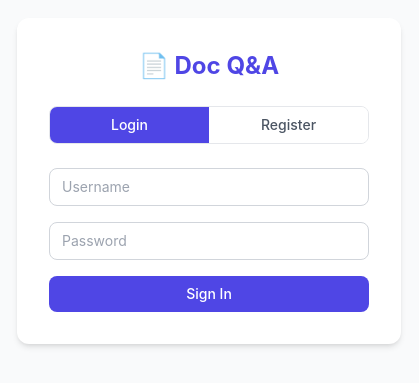
Test case: AuthPage › shows success message after registration
Click the button "Register". click: (288, 125)
box: [209,107,368,143]
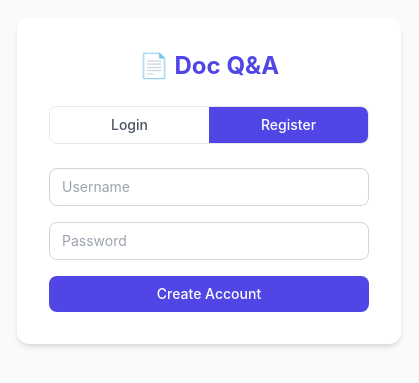
Type "alice" into the field with placeholder "Username". click: (209, 187)
box: [49,168,369,206]
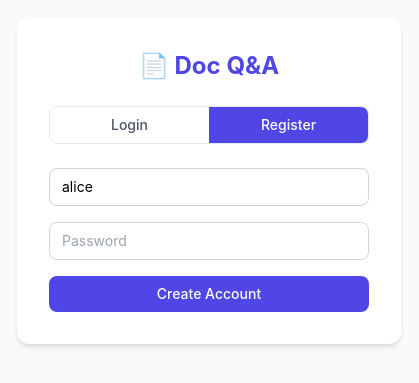
Type "secret" into the password field with placeholder "Password". click: (209, 241)
box: [49,222,369,260]
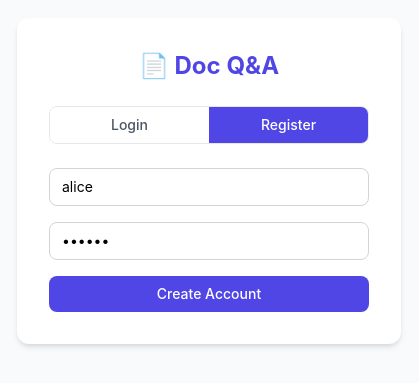
Click the button "Create Account". click: (209, 294)
box: [49,276,369,312]
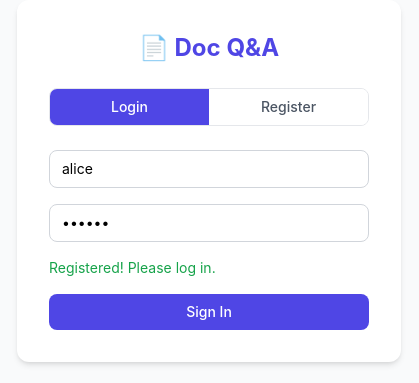
Expected: the text "Registered! Please log in." is shown, [49,259,216,276]
